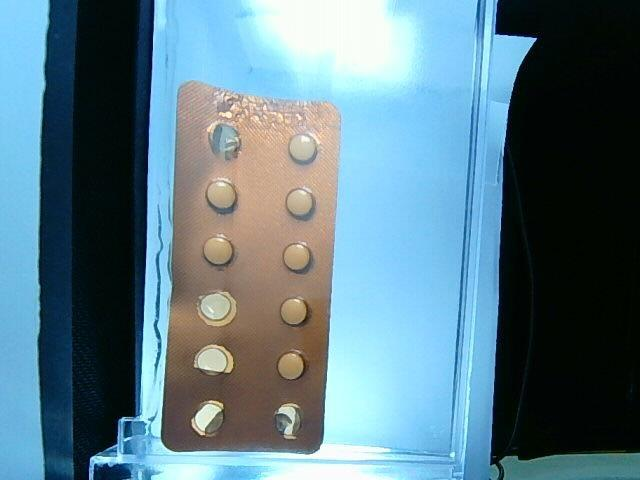Light Front: (160, 81, 343, 456)
No Pill Front: (198, 291, 236, 326), (194, 344, 234, 375), (208, 123, 241, 159), (191, 400, 224, 436), (273, 404, 301, 440)
Pill Front: (206, 179, 237, 213), (203, 234, 234, 265), (280, 298, 308, 326), (283, 244, 311, 272), (286, 189, 313, 218), (289, 135, 316, 163), (278, 353, 305, 379)
